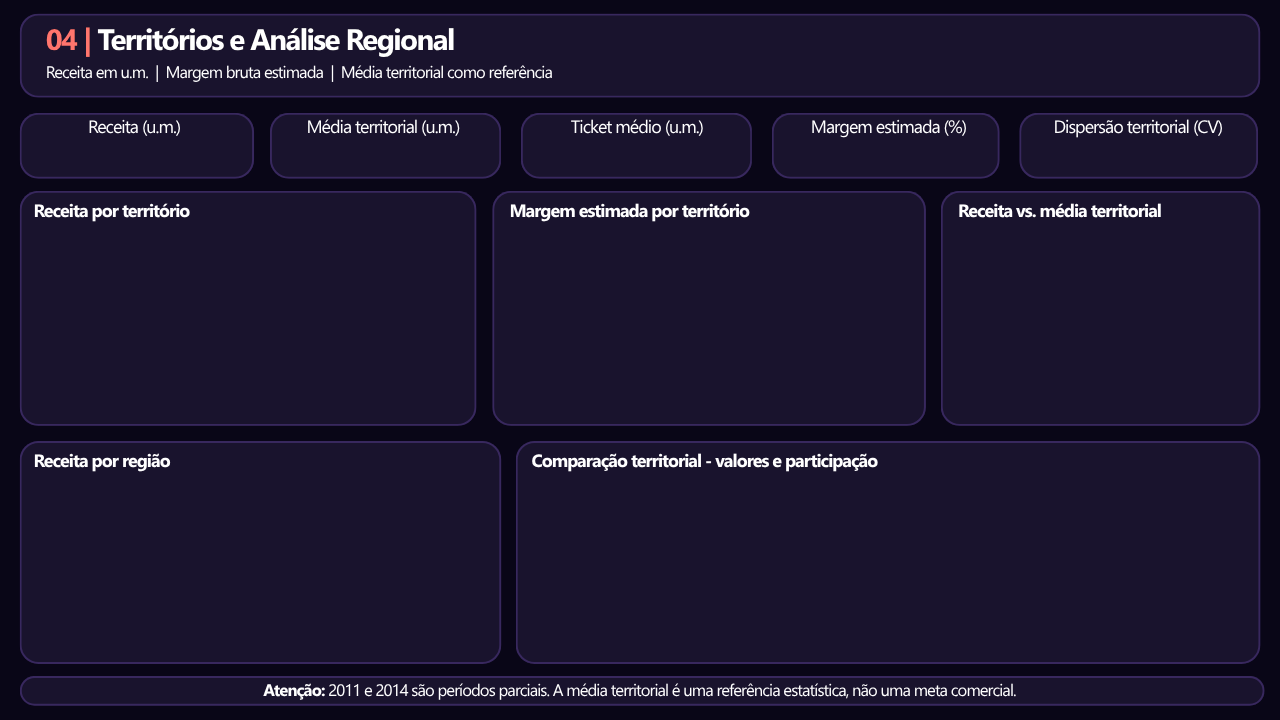

The dashboard page shown, as its layout file describes it:
{"tool":"powerbi","page":{"name":"04 | Territórios e Análise Regional","canvas":[1280,720],"ordinal":3},"visuals":[{"type":"slicer","fields":{"Values":["DimTerritorio.GrupoRegiao"]},"box":[980,23.2,133.3,64.4],"z":0},{"type":"slicer","fields":{"Values":["DimCalendario.Ano"]},"box":[711.1,23.2,132.2,64.4],"z":1000},{"type":"slicer","fields":{"Values":["DimTerritorio.Territorio"]},"box":[1113.5,23.2,132.7,65.1],"z":2000},{"type":"slicer","fields":{"Values":["DimProduto.Categoria"]},"box":[843.3,23.2,136.7,64.4],"z":3000},{"type":"card","title":"Receita (u.m.)","fields":{"Values":["Medidas.Receita de Produtos"]},"box":[17.3,131.8,237.3,42.7],"z":4000},{"type":"card","title":"Média territorial (u.m.)","fields":{"Values":["Medidas.Receita Média Território"]},"box":[270.9,130.9,230,42.7],"z":5000},{"type":"card","title":"Ticket (u.m.)","fields":{"Values":["Medidas.Ticket Médio"]},"box":[520.9,130.9,229.1,42.7],"z":6000},{"type":"card","title":"Margem estimada %","fields":{"Values":["Medidas.Margem Bruta Estimada %"]},"box":[774.5,130.9,222.7,42.7],"z":7000},{"type":"card","title":"Dispersão territorial (CV)","fields":{"Values":["Medidas.Coeficiente Variação Território"]},"box":[1020,130.9,238.2,42.7],"z":8000},{"type":"barChart","title":"Receita por território","fields":{"Category":["DimTerritorio.Territorio"],"Y":["Medidas.Receita de Produtos"]},"box":[26.4,218.6,441.4,199.3],"z":10000},{"type":"barChart","title":"Receita por região","fields":{"Category":["DimTerritorio.GrupoRegiao"],"Y":["Medidas.Receita de Produtos"]},"box":[26.4,481.4,467.9,170],"z":11000},{"type":"barChart","title":"Receita: diferença para a média","fields":{"Y":["Medidas.Desvio Receita Território vs Média"],"Category":["DimTerritorio.Territorio"]},"box":[947.8,226.7,303.3,191.1],"z":12000},{"type":"tableEx","title":"Comparação territorial — valores e participação","fields":{"Values":["DimTerritorio.Territorio","Medidas.Receita de Produtos","Medidas.Participação Receita Território %","Medidas.Pedidos","Medidas.Ticket Médio","Medidas.Margem Bruta Estimada %"]},"box":[527.9,481.4,717.9,170],"z":13000},{"type":"barChart","title":"Margem estimada por território","fields":{"Category":["DimTerritorio.Territorio"],"Y":["Medidas.Margem Bruta Estimada %"]},"box":[500.7,226.4,419.3,191.4],"z":14000}]}

Visuals, with their boxes in screenshot pixels (x1, y1, x2, y2), scaled from the page's 1280x720 canvas onto the 1280x720 screenshot:
slicer - DimTerritorio.GrupoRegiao: (left=980, top=23, right=1113, bottom=88)
slicer - DimCalendario.Ano: (left=711, top=23, right=843, bottom=88)
slicer - DimTerritorio.Territorio: (left=1114, top=23, right=1246, bottom=88)
slicer - DimProduto.Categoria: (left=843, top=23, right=980, bottom=88)
"Receita (u.m.)" card: (left=17, top=132, right=255, bottom=174)
"Média territorial (u.m.)" card: (left=271, top=131, right=501, bottom=174)
"Ticket (u.m.)" card: (left=521, top=131, right=750, bottom=174)
"Margem estimada %" card: (left=774, top=131, right=997, bottom=174)
"Dispersão territorial (CV)" card: (left=1020, top=131, right=1258, bottom=174)
"Receita por território" barChart: (left=26, top=219, right=468, bottom=418)
"Receita por região" barChart: (left=26, top=481, right=494, bottom=651)
"Receita: diferença para a média" barChart: (left=948, top=227, right=1251, bottom=418)
"Comparação territorial — valores e participação" tableEx: (left=528, top=481, right=1246, bottom=651)
"Margem estimada por território" barChart: (left=501, top=226, right=920, bottom=418)
